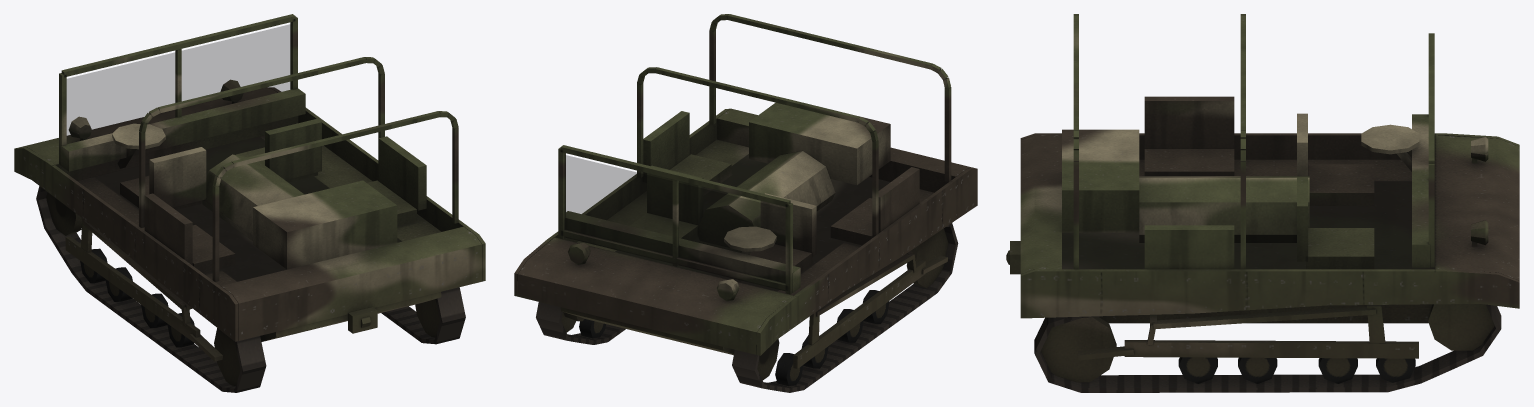
Rendered from C2P_MID.fbx.
The picture shows the model from 3 angles, left to right: view 1: azimuth 30°, elevation 25°; view 2: azimuth 150°, elevation 25°; view 3: azimuth 270°, elevation 25°; orthographic projection. The views are drawn at different scales.
Parts seen in each view (by area): view 1: Chassis, Chenille_Gauche_01, Chenille_Droite_01, Roue_G6, Roue_G1, Roue_D6; view 2: Chassis, Chenille_Gauche_01, Chenille_Droite_01, Roue_G6, Roue_G2, Roue_G1, Roue_D2; view 3: Chassis, Chenille_Droite_01, Roue_D6, Roue_D1, Roue_D5, Roue_D4, Roue_D3, Roue_D2.
Boxes of the visible parts, bbox=[...] form: Chassis: bbox=[14, 14, 485, 361]; Chenille_Gauche_01: bbox=[36, 186, 266, 392]; Chenille_Droite_01: bbox=[381, 287, 465, 344]; Roue_G6: bbox=[214, 328, 240, 385]; Roue_G1: bbox=[46, 192, 82, 235]; Roue_D6: bbox=[415, 299, 439, 337]; Chassis: bbox=[514, 14, 977, 368]; Chenille_Gauche_01: bbox=[732, 223, 958, 392]; Chenille_Droite_01: bbox=[536, 302, 625, 344]; Roue_G6: bbox=[906, 228, 948, 288]; Roue_G2: bbox=[775, 353, 803, 385]; Roue_G1: bbox=[757, 338, 779, 380]; Roue_D2: bbox=[579, 319, 605, 338]; Chassis: bbox=[1006, 14, 1519, 360]; Chenille_Droite_01: bbox=[1034, 304, 1501, 392]; Roue_D6: bbox=[1040, 317, 1116, 382]; Roue_D1: bbox=[1428, 304, 1494, 350]; Roue_D5: bbox=[1178, 357, 1217, 383]; Roue_D4: bbox=[1238, 357, 1277, 383]; Roue_D3: bbox=[1318, 358, 1357, 383]; Roue_D2: bbox=[1376, 358, 1415, 382].
Size of the model in its own units: 182 by 286 by 159.
2 materials, 1 textured.
